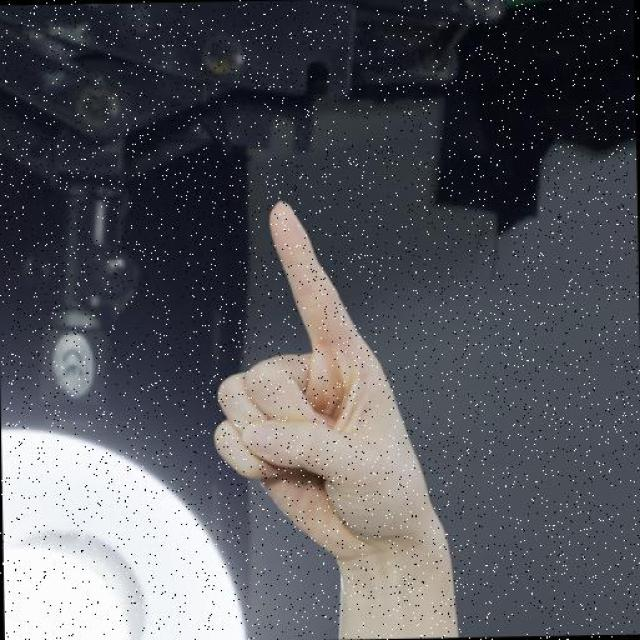Z: (208, 194, 454, 568)
